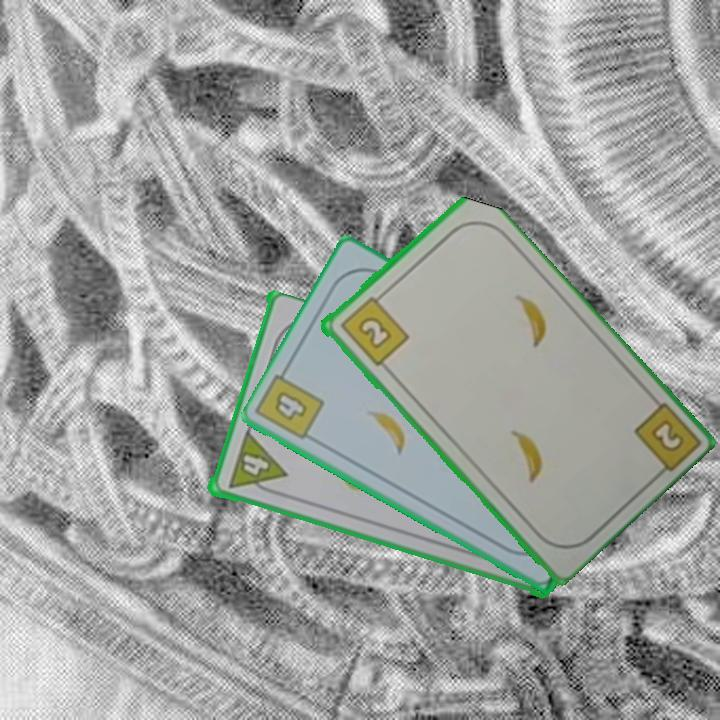2b: (336, 289, 411, 369), (646, 415, 687, 456)
4b: (270, 387, 310, 424)
4p: (224, 429, 288, 499)
